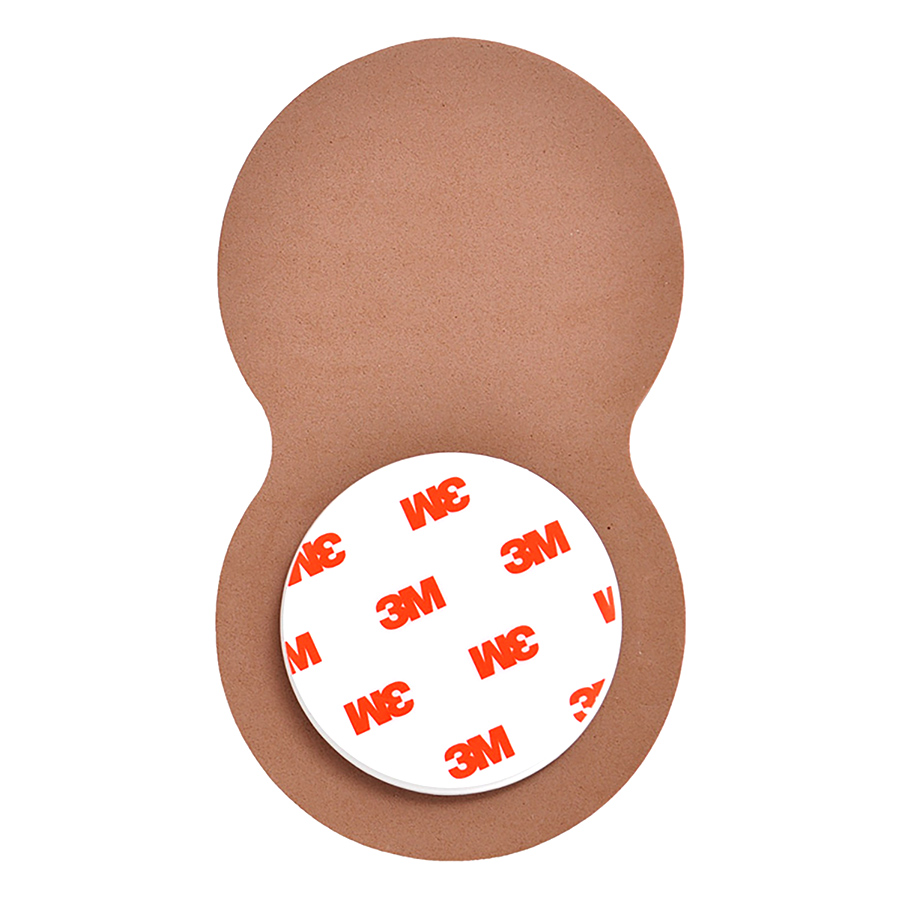3M: (329, 674, 419, 744), (391, 468, 487, 531), (436, 712, 520, 784), (361, 567, 453, 631), (496, 508, 577, 580), (462, 618, 545, 682)
